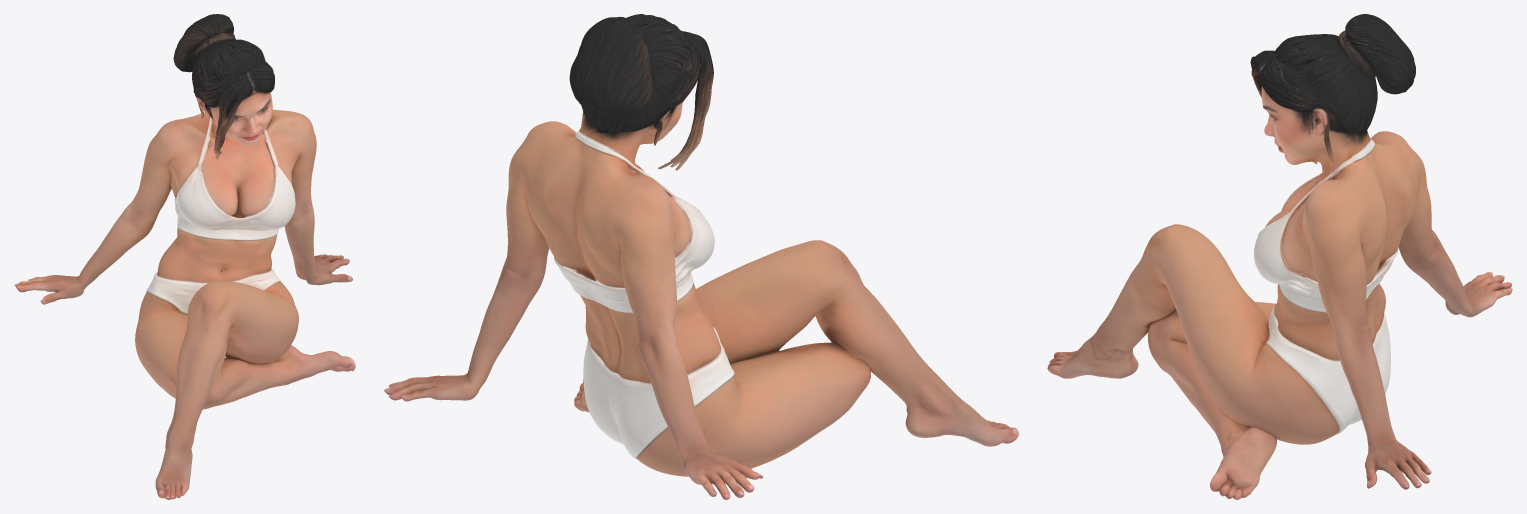
Rendered from Mulher-sentada-roupa-intima.glb.
3 renders of one model, left to right at view 1: azimuth 30°, elevation 25°; view 2: azimuth 150°, elevation 25°; view 3: azimuth 270°, elevation 25°, orthographic. The views are drawn at different scales.
Parts seen in each view (by area): view 1: Mesh_0_modddif_material_0_0; view 2: Mesh_0_modddif_material_0_0; view 3: Mesh_0_modddif_material_0_0.
Part boxes in pixels (<box>): Mesh_0_modddif_material_0_0: <box>14,14,355,499</box>; Mesh_0_modddif_material_0_0: <box>384,14,1018,499</box>; Mesh_0_modddif_material_0_0: <box>1047,14,1512,499</box>.
Size of the model in its own units: 0.9626 by 1 by 0.9267.
1 material, 1 textured.
